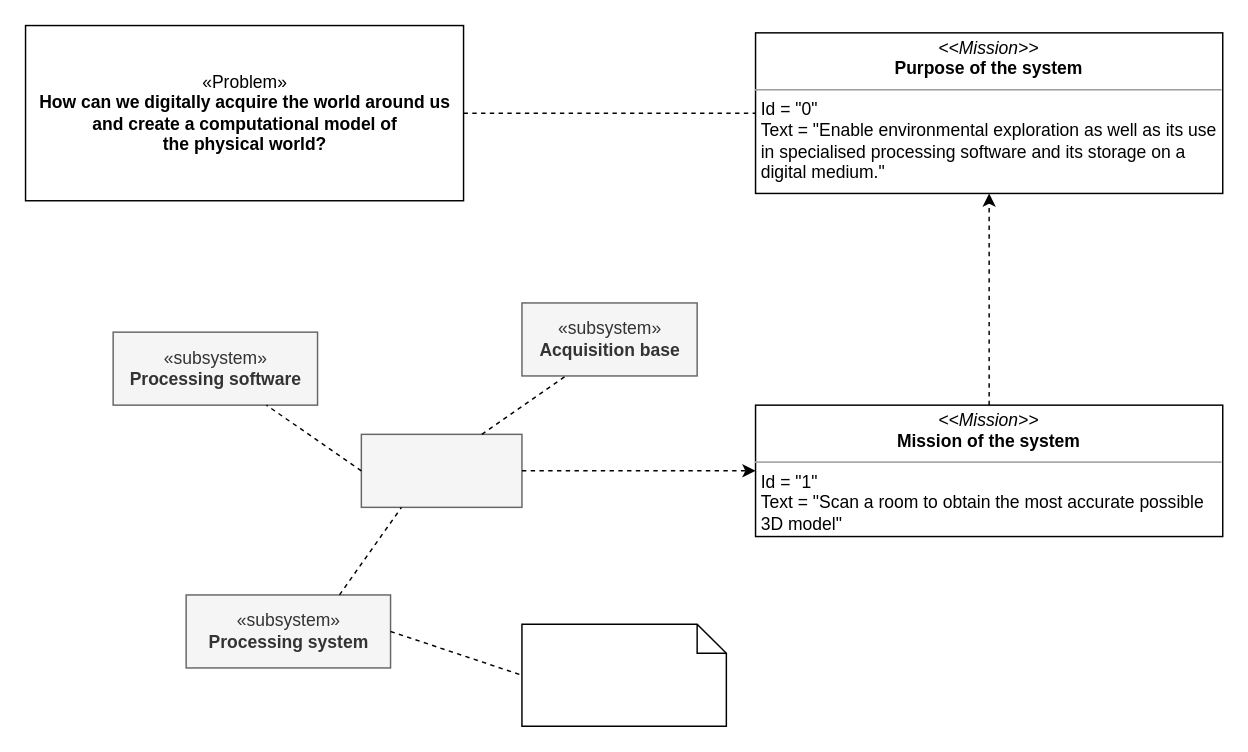
Some shapes in this 1248 by 752 pixel diagram are drawn without their labels. Each missing label, with the box of its shape:
Designed outside the scope of the project: (520, 623, 726, 726)
«system» 3D Cartography: (360, 433, 522, 507)
